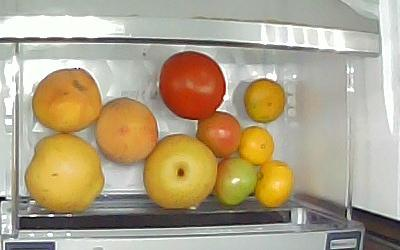peach: (31, 68, 102, 135), (96, 97, 158, 166)
pear: (25, 135, 106, 213), (143, 134, 218, 209)
tangerine: (245, 79, 287, 124), (257, 161, 293, 208), (238, 126, 275, 165)
tomato: (159, 52, 227, 120), (196, 111, 243, 159), (215, 157, 259, 205)
